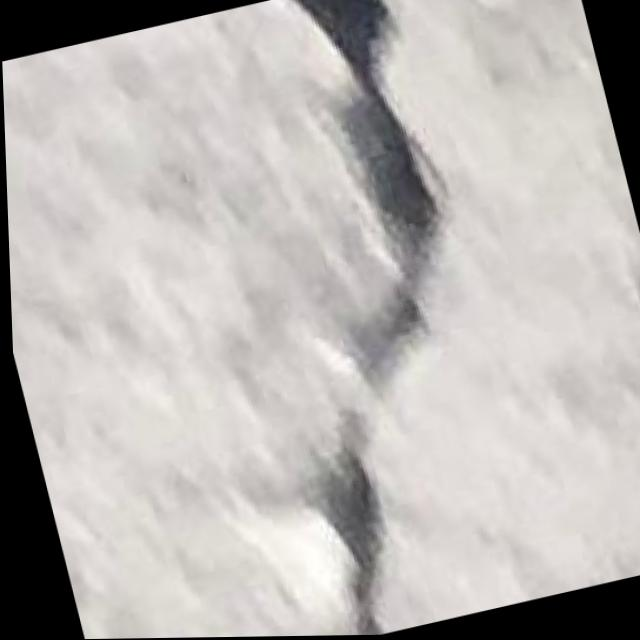Crack: (170, 0, 553, 638)
